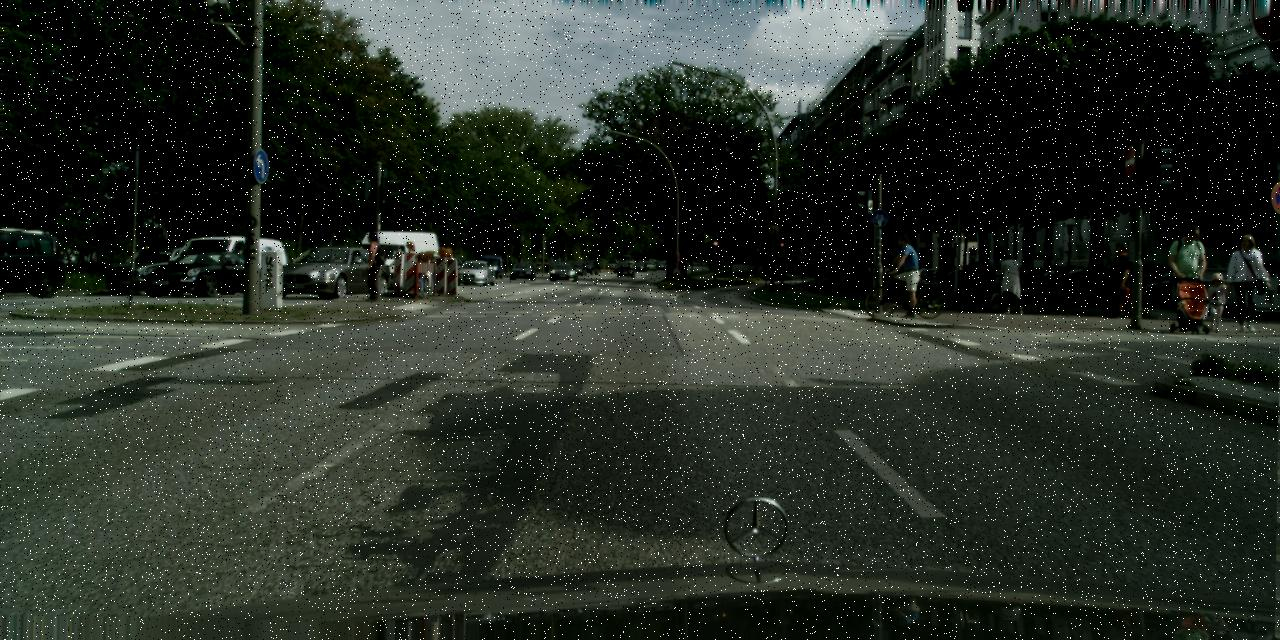ped: (1168, 223, 1212, 331), (1227, 234, 1267, 331), (1105, 243, 1135, 318), (359, 231, 388, 301), (888, 230, 916, 300), (999, 254, 1023, 314), (1204, 272, 1228, 332), (964, 260, 978, 296), (992, 262, 1006, 298), (516, 254, 521, 270)
